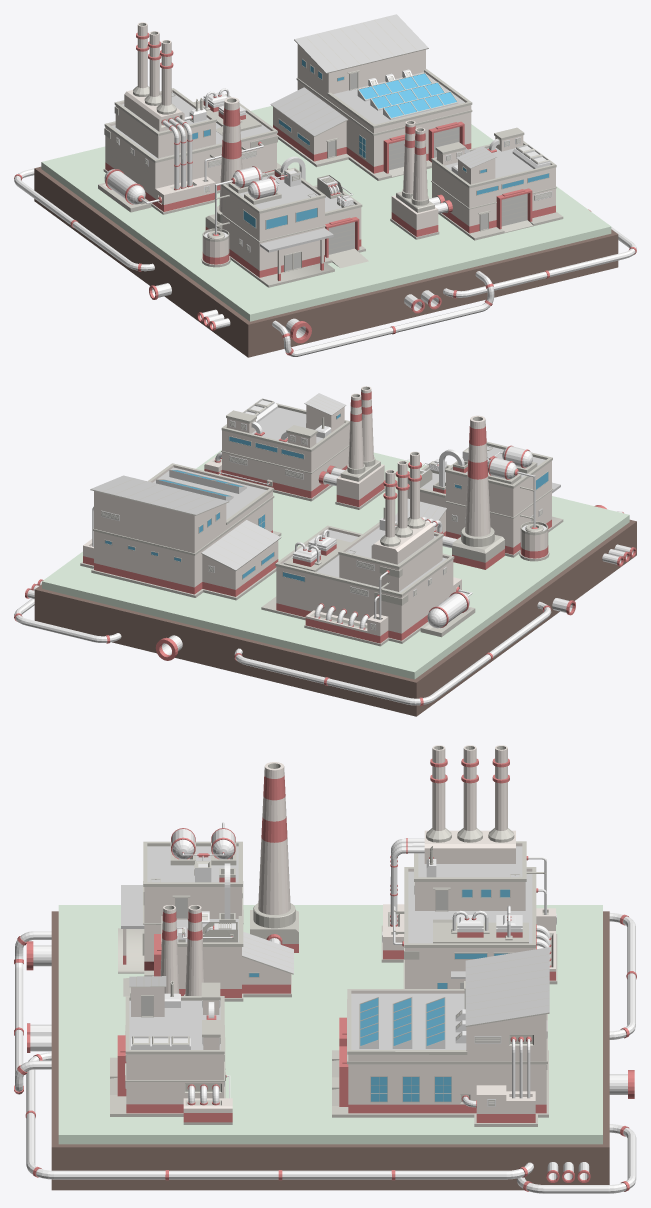
3 renders of one model, top to bottom at view 1: azimuth 30°, elevation 25°; view 2: azimuth 150°, elevation 25°; view 3: azimuth 270°, elevation 25°, orthographic. The views are drawn at different scales.
Parts seen in each view (by area): view 1: huitugou_2445_01, huitugou_2445_02, huitugou_2445_03, huitugou_2445_04, huitugou_2445_05, huitugou_2445_06, huitugou_2445_10, huitugou_2445_09; view 2: huitugou_2445_01, huitugou_2445_03, huitugou_2445_02, huitugou_2445_05, huitugou_2445_04, huitugou_2445_06; view 3: huitugou_2445_01, huitugou_2445_02, huitugou_2445_03, huitugou_2445_04, huitugou_2445_05, huitugou_2445_06.
Boxes of the visible parts, x1=… form: huitugou_2445_01: x1=34, y1=106, x2=618, y2=357; huitugou_2445_02: x1=270, y1=14, x2=472, y2=180; huitugou_2445_03: x1=98, y1=22, x2=281, y2=214; huitugou_2445_04: x1=201, y1=97, x2=368, y2=287; huitugou_2445_05: x1=390, y1=120, x2=563, y2=240; huitugou_2445_06: x1=14, y1=168, x2=636, y2=356; huitugou_2445_10: x1=501, y1=193, x2=527, y2=226; huitugou_2445_09: x1=328, y1=222, x2=354, y2=254; huitugou_2445_01: x1=34, y1=450, x2=636, y2=716; huitugou_2445_03: x1=261, y1=451, x2=475, y2=646; huitugou_2445_02: x1=80, y1=463, x2=281, y2=600; huitugou_2445_05: x1=204, y1=386, x2=385, y2=509; huitugou_2445_04: x1=395, y1=415, x2=563, y2=569; huitugou_2445_06: x1=14, y1=459, x2=636, y2=705; huitugou_2445_01: x1=51, y1=905, x2=609, y2=1190; huitugou_2445_02: x1=332, y1=947, x2=549, y2=1126; huitugou_2445_03: x1=381, y1=745, x2=557, y2=988; huitugou_2445_04: x1=118, y1=762, x2=298, y2=1001; huitugou_2445_05: x1=110, y1=905, x2=232, y2=1124; huitugou_2445_06: x1=14, y1=912, x2=636, y2=1193.
Bounding box in the file's own units: 2198 × 987 × 2238.
